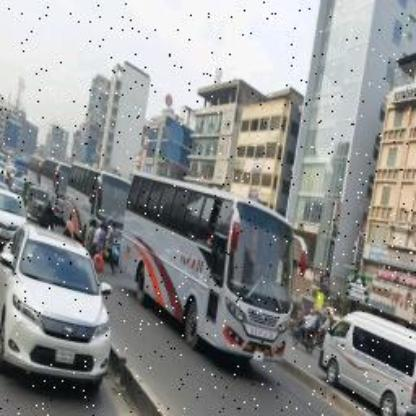bus: (124, 171, 300, 357), (67, 160, 133, 252), (39, 147, 71, 233)
